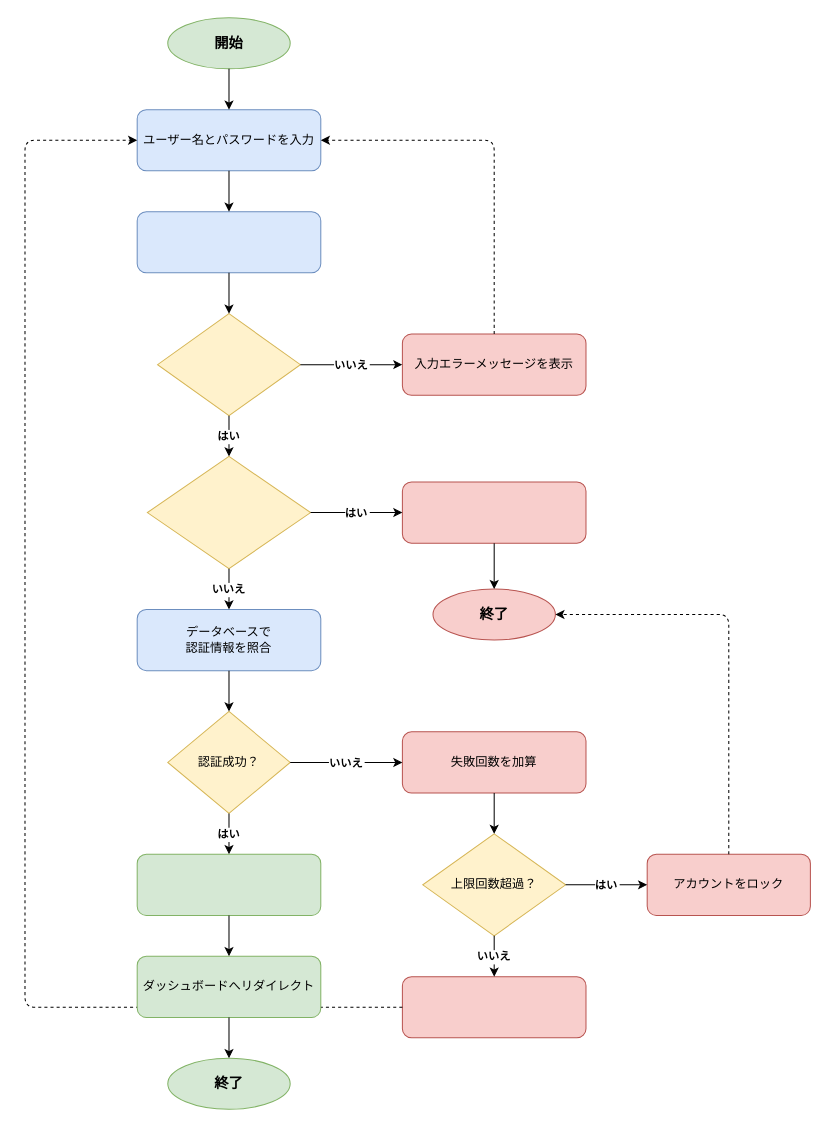
The diagram is 828 pixels wide and 1127 high, and some of its shapes have lost their labels. The shapes that lost their labels are listed below. From the top down, each one's centre as x and y in pixels, then its label:
the point at 228,242: 入力値のバリデーション
the point at 228,364: 入力値は有効？
the point at 228,512: アカウントはロック済み？
the point at 493,512: アカウントロック メッセージを表示
the point at 228,884: セッショントークンを生成
the point at 493,1007: ログインエラーを表示
